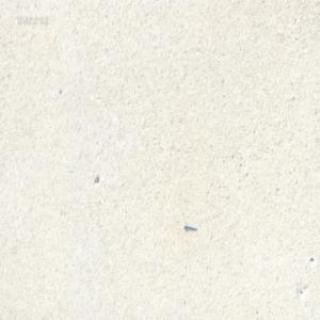Nailtrack_idkeyframe: (183, 222, 196, 231)
